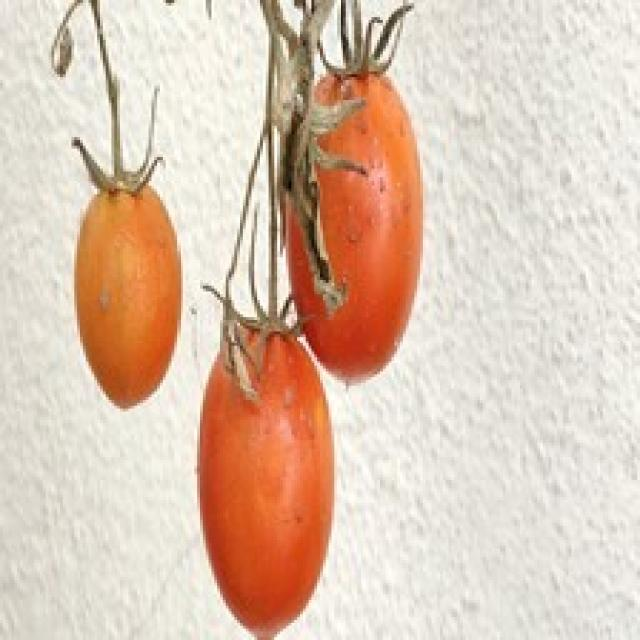tomato: (263, 57, 431, 382), (194, 314, 343, 640), (78, 170, 194, 414)
